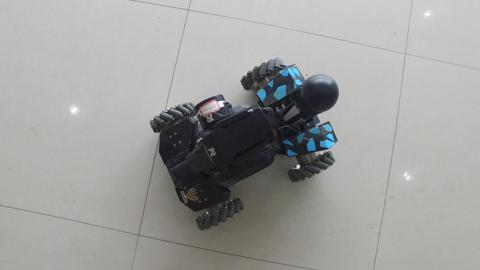chariot: (137, 53, 348, 246)
